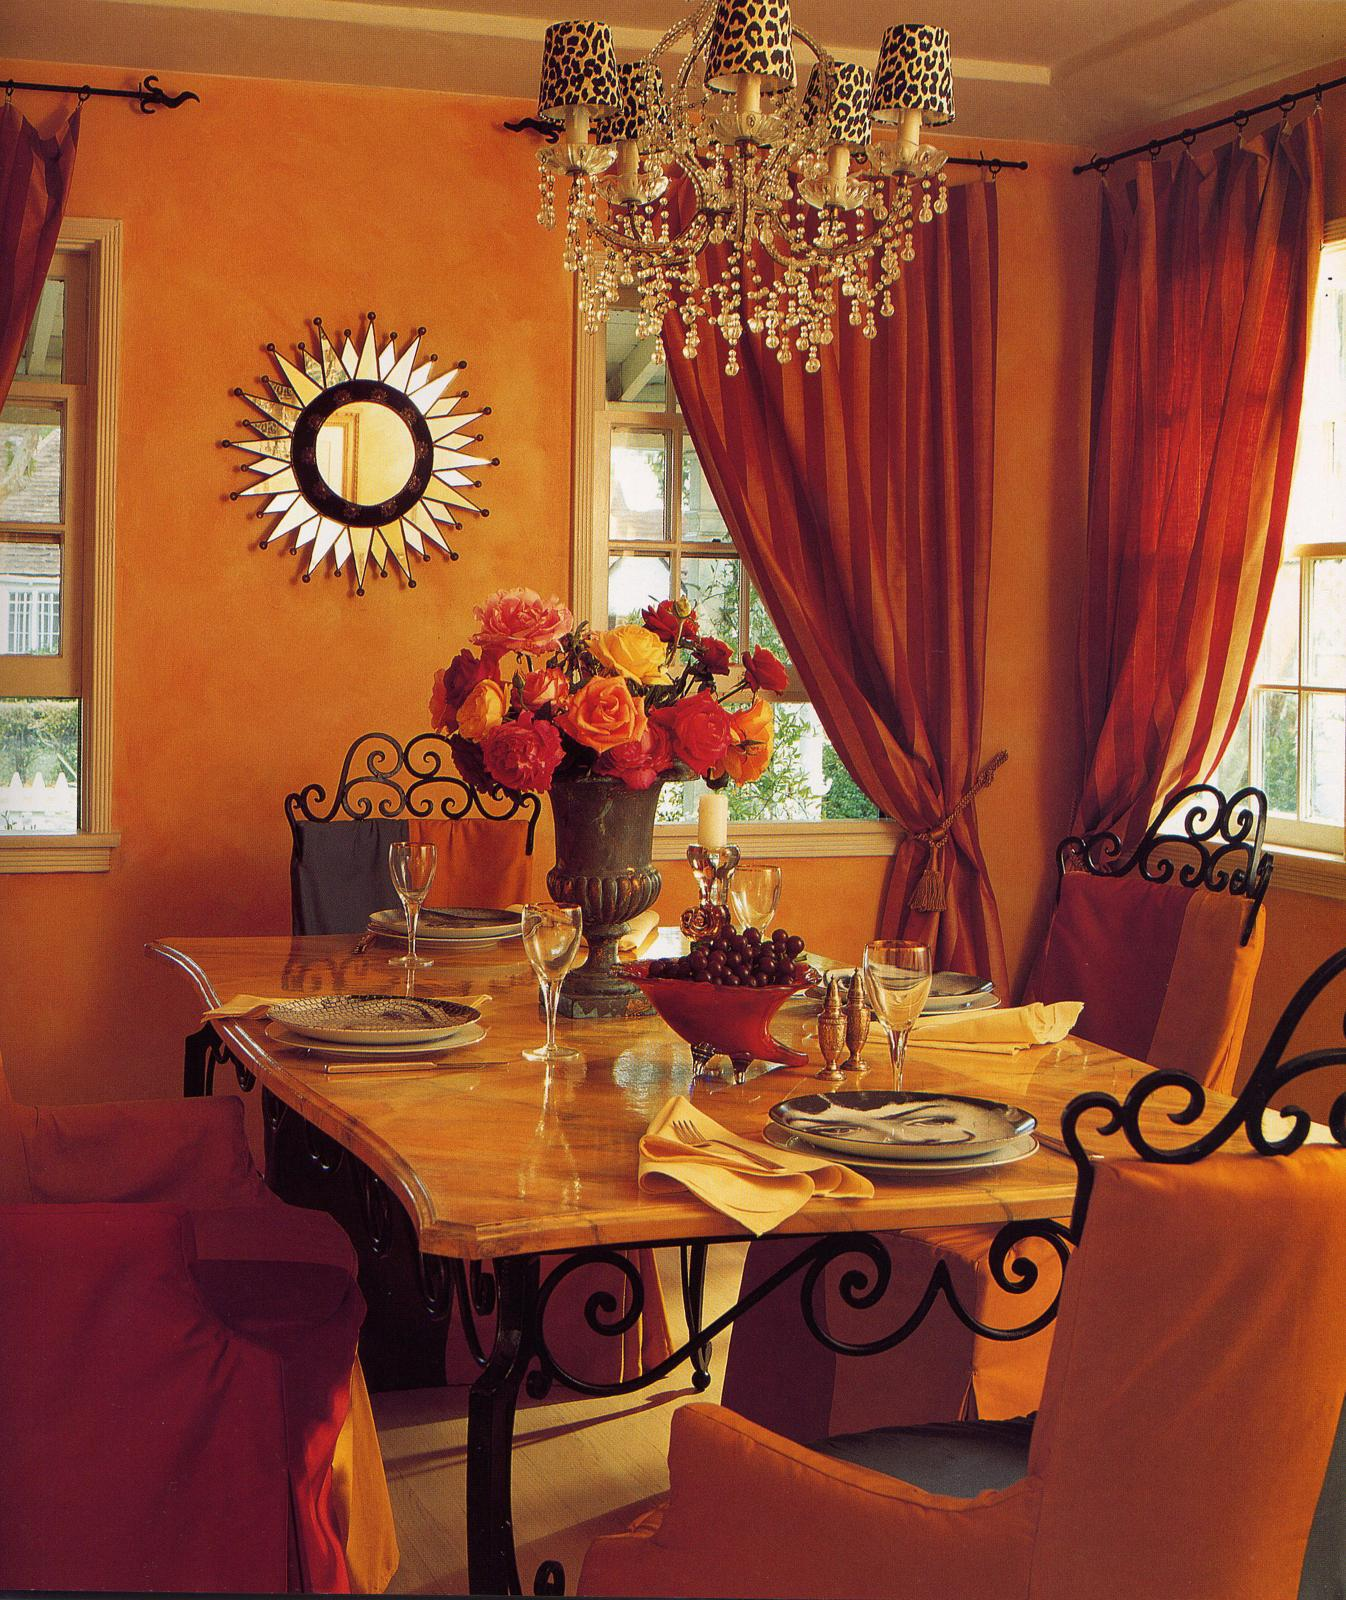Matera: (433, 605, 778, 1007)
Ventana: (594, 174, 949, 849), (1098, 200, 1345, 849), (0, 227, 101, 837)
